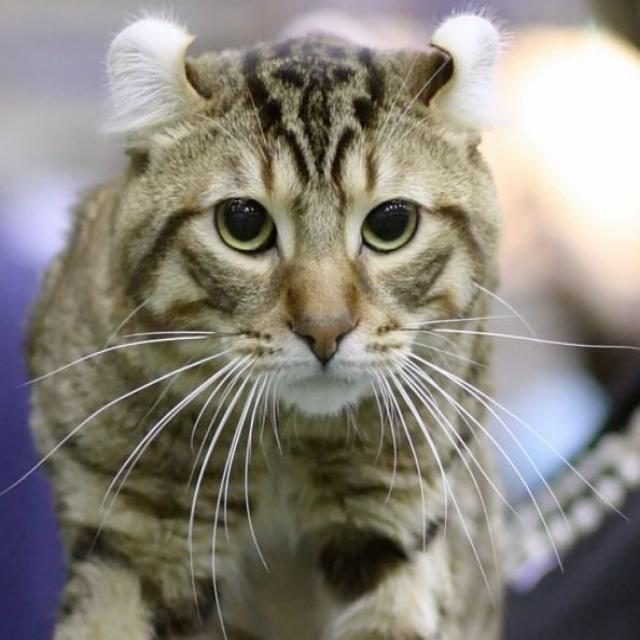American Curl: (16, 8, 515, 640)
